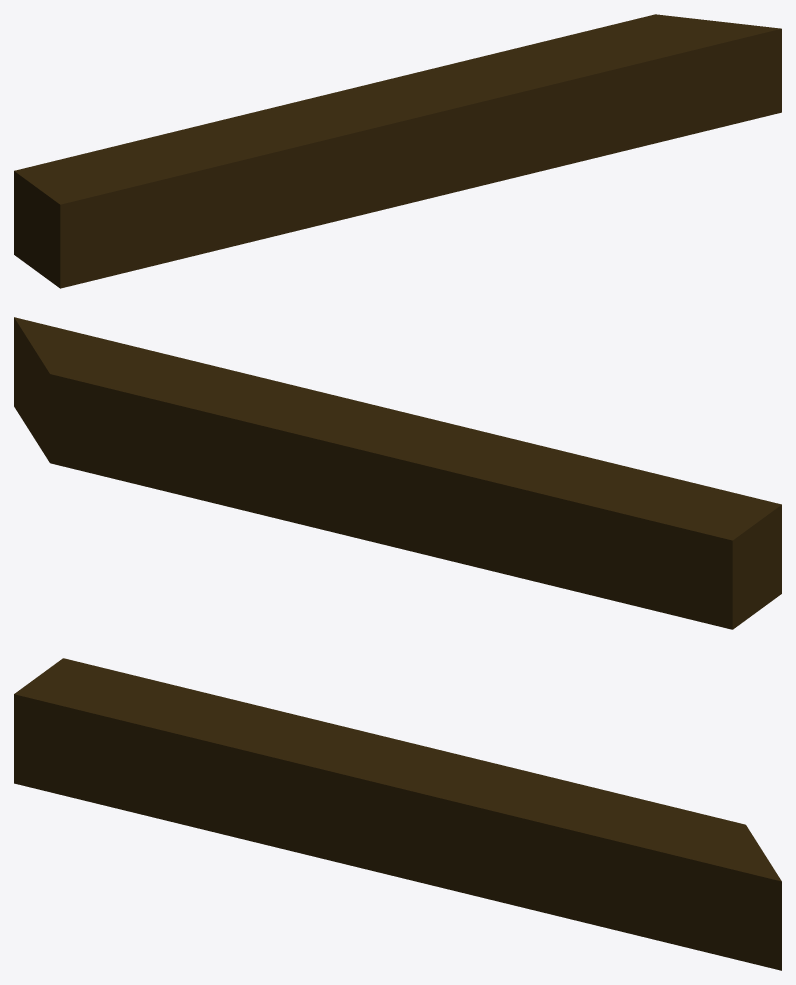
File: Greda ugaona.FBX
3 renders of one model, top to bottom at view 1: azimuth 30°, elevation 25°; view 2: azimuth 150°, elevation 25°; view 3: azimuth 330°, elevation 25°, orthographic. The views are drawn at different scales.
Parts seen in each view (by area): view 1: temeljna_ugaona_Greda008; view 2: temeljna_ugaona_Greda008; view 3: temeljna_ugaona_Greda008.
Part boxes in pixels (left/top/right/bottom): temeljna_ugaona_Greda008: left=14, top=14, right=781, bottom=288; temeljna_ugaona_Greda008: left=14, top=317, right=781, bottom=629; temeljna_ugaona_Greda008: left=14, top=658, right=781, bottom=970.
Bounding box in the file's own units: 180 × 20 × 20.
